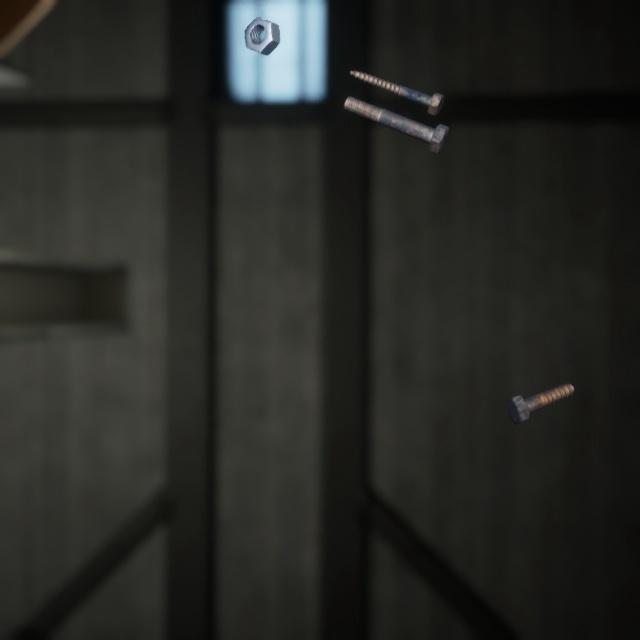bolt: (339, 80, 453, 146), (345, 55, 448, 109), (501, 359, 579, 409)
nut: (240, 3, 284, 50)
